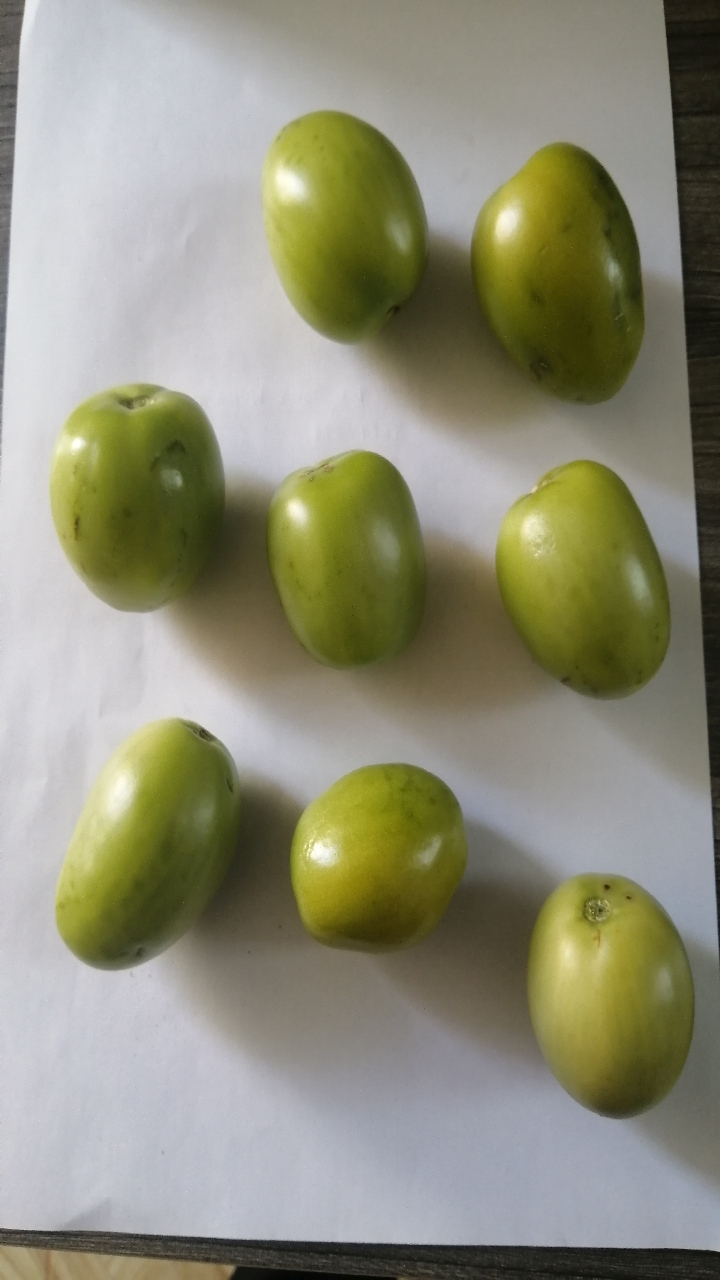tomateVerde: (35, 695, 246, 989), (43, 351, 246, 646), (463, 125, 664, 417), (515, 846, 704, 1140), (478, 434, 680, 709), (264, 742, 483, 986), (254, 97, 441, 365), (261, 423, 448, 679)
